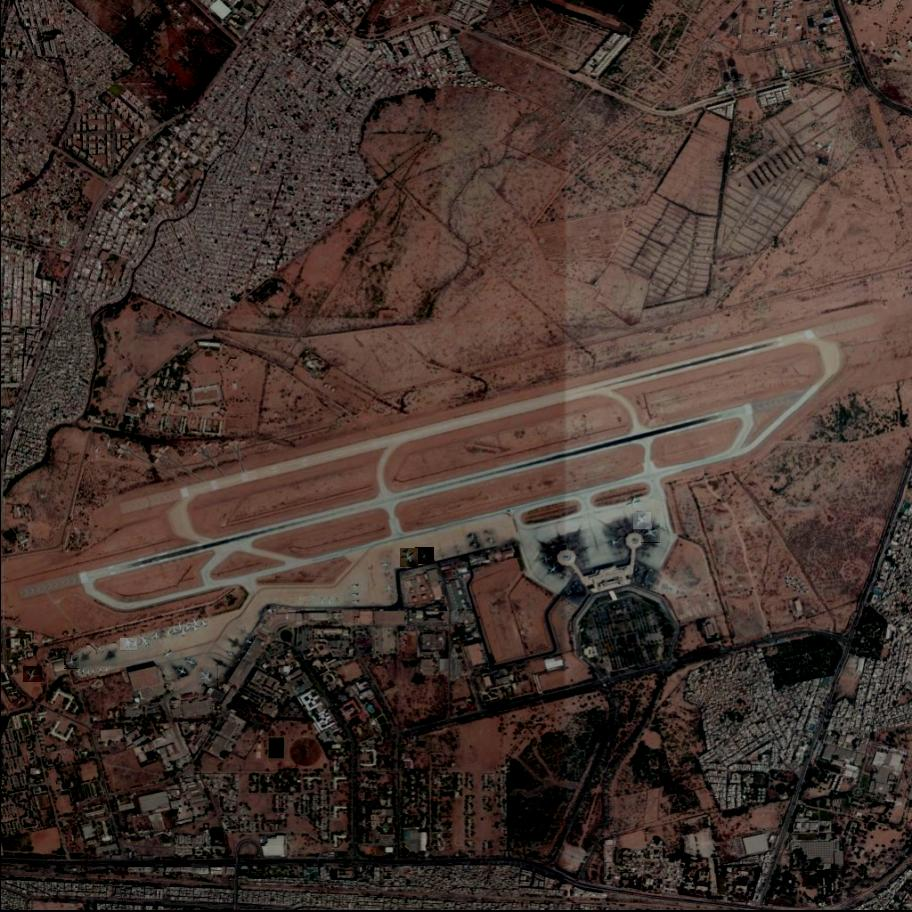plane: (197, 666, 219, 689), (641, 523, 660, 544), (633, 512, 653, 531), (416, 546, 435, 565), (401, 548, 419, 568), (23, 666, 42, 683), (64, 655, 80, 670), (121, 638, 137, 652)
